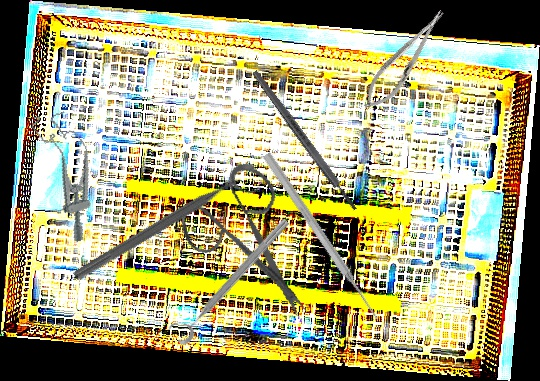Fixation Ring: (69, 158, 267, 296), (164, 209, 294, 348)
Iris Scissors: (163, 152, 343, 321)
Needle Holder: (355, 2, 455, 118)
Pusher: (260, 150, 384, 325)
Scalpel Handle: (250, 68, 360, 213)
Speculum: (28, 104, 112, 246)
